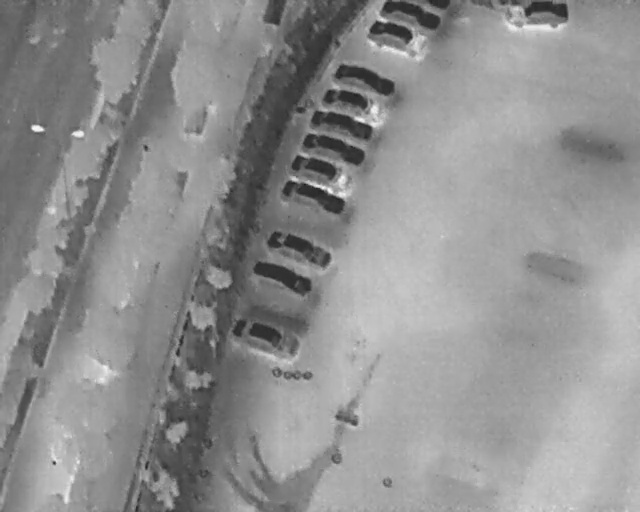Car: (225, 306, 307, 366), (260, 222, 338, 275), (275, 171, 352, 223), (363, 12, 437, 66), (285, 147, 358, 197), (248, 253, 319, 303), (298, 126, 371, 173), (331, 55, 401, 103), (307, 102, 380, 147), (318, 80, 389, 123), (377, 0, 445, 33), (505, 0, 570, 30)
